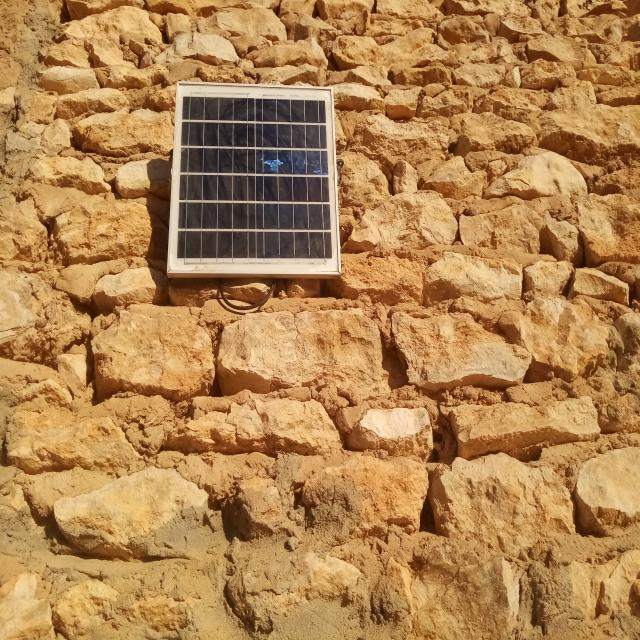faulty: (168, 82, 341, 274)
